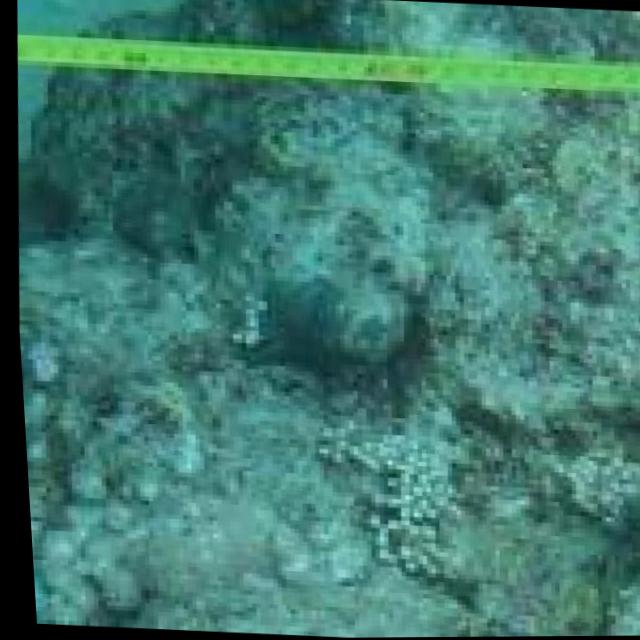Bleached Coral: (3, 61, 640, 640)
